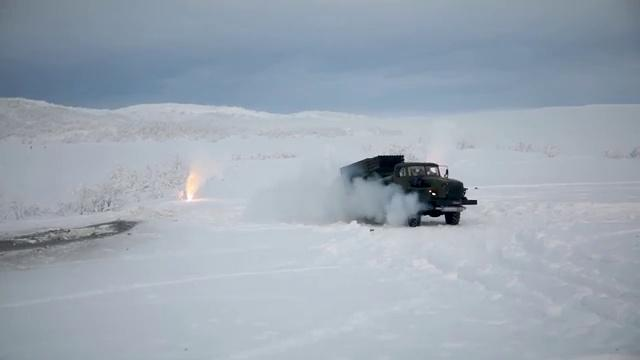MIL_SAM_TEL: (340, 153, 468, 225)
